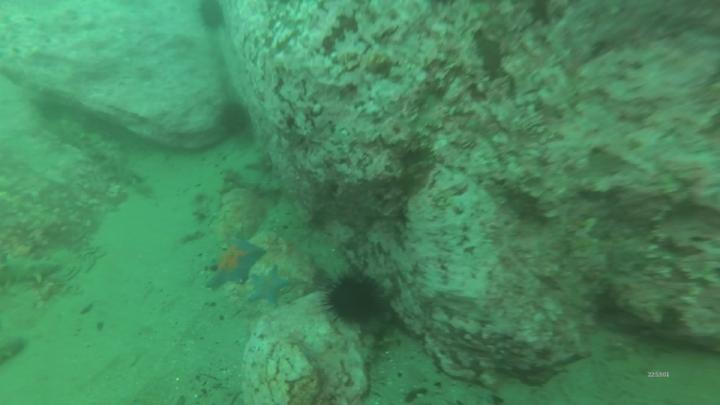echinus: (330, 275, 383, 324), (220, 104, 251, 136), (199, 2, 225, 29)
holothurian: (230, 163, 283, 195), (5, 257, 61, 281)
starfish: (209, 238, 263, 286), (253, 265, 287, 307)
